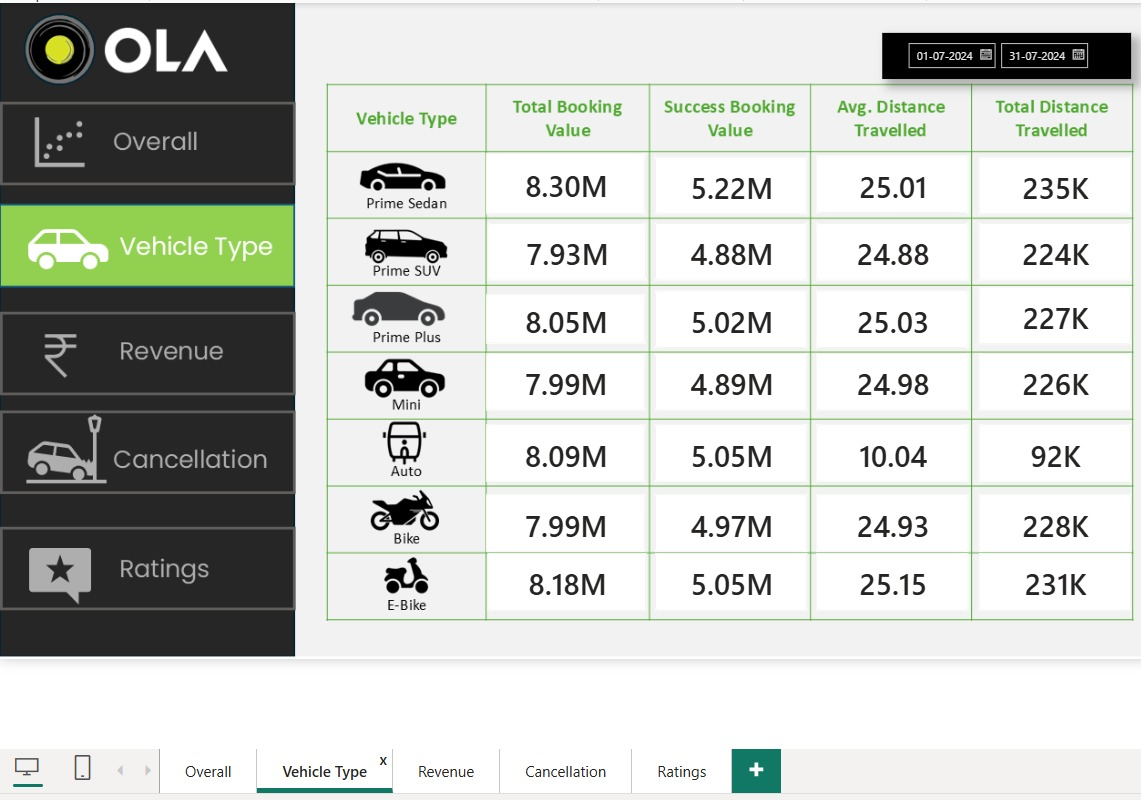

Layout of this report page (visuals, bound fields, positions):
{"tool":"powerbi","page":{"name":"Vehicle Type","canvas":[1280,720],"ordinal":1},"visuals":[{"type":"actionButton","box":[0,339,324.5,91.7],"z":0},{"type":"actionButton","box":[0,447.6,324.5,91.7],"z":1000},{"type":"actionButton","box":[0,575.5,324.5,91.7],"z":2000},{"type":"actionButton","box":[0,108.6,324.5,91.7],"z":3000},{"type":"cardVisual","fields":{"Data":["Sum(July.Booking_Value)"]},"box":[533.8,164.7,174.3,67.2],"z":4000},{"type":"cardVisual","fields":{"Data":["Sum(July.Booking_Value)"]},"box":[535.2,241.5,174.3,63.1],"z":5000},{"type":"cardVisual","fields":{"Data":["Sum(July.Booking_Value)"]},"box":[533.8,319.7,174.3,54.9],"z":6000},{"type":"cardVisual","fields":{"Data":["Sum(July.Booking_Value)"]},"box":[533.8,384.2,174.3,63.1],"z":7000},{"type":"cardVisual","fields":{"Data":["Sum(July.Booking_Value)"]},"box":[533.8,462.4,174.3,63.1],"z":8000},{"type":"cardVisual","fields":{"Data":["Sum(July.Booking_Value)"]},"box":[533.8,539.3,174.3,63.1],"z":9000},{"type":"cardVisual","fields":{"Data":["Sum(July.Booking_Value)"]},"box":[535.2,603.8,174.3,63.1],"z":10000},{"type":"cardVisual","fields":{"Data":["Sum(July.Booking_Value)"]},"box":[719,168.8,167.4,63.1],"z":11000},{"type":"cardVisual","fields":{"Data":["Sum(July.Booking_Value)"]},"box":[719,241.5,167.4,63.1],"z":12000},{"type":"cardVisual","fields":{"Data":["Sum(July.Booking_Value)"]},"box":[719,315.6,167.4,63.1],"z":13000},{"type":"cardVisual","fields":{"Data":["Sum(July.Booking_Value)"]},"box":[719,384.2,167.4,63.1],"z":14000},{"type":"cardVisual","fields":{"Data":["Sum(July.Booking_Value)"]},"box":[719,462.4,167.4,63.1],"z":15000},{"type":"cardVisual","fields":{"Data":["Sum(July.Booking_Value)"]},"box":[719,539.3,167.4,63.1],"z":16000},{"type":"cardVisual","fields":{"Data":["Sum(July.Booking_Value)"]},"box":[719,603.8,167.4,63.1],"z":17000},{"type":"cardVisual","fields":{"Data":["Avg(July.Ride_Distance)"]},"box":[896.1,167.4,167.4,63.1],"z":18000},{"type":"cardVisual","fields":{"Data":["Avg(July.Ride_Distance)"]},"box":[896.1,241.5,167.4,63.1],"z":19000},{"type":"cardVisual","fields":{"Data":["Avg(July.Ride_Distance)"]},"box":[896.1,315.6,167.4,63.1],"z":20000},{"type":"cardVisual","fields":{"Data":["Avg(July.Ride_Distance)"]},"box":[896.1,384.2,167.4,63.1],"z":21000},{"type":"cardVisual","fields":{"Data":["Avg(July.Ride_Distance)"]},"box":[896.1,462.4,167.4,63.1],"z":22000},{"type":"cardVisual","fields":{"Data":["Avg(July.Ride_Distance)"]},"box":[896.1,539.3,167.4,63.1],"z":23000},{"type":"cardVisual","fields":{"Data":["Avg(July.Ride_Distance)"]},"box":[896.1,603.8,167.4,63.1],"z":24000},{"type":"cardVisual","fields":{"Data":["Sum(July.Ride_Distance)"]},"box":[1074.4,168.8,167.4,63.1],"z":24001},{"type":"cardVisual","fields":{"Data":["Sum(July.Ride_Distance)"]},"box":[1074.4,241.5,167.4,63.1],"z":24002},{"type":"cardVisual","fields":{"Data":["Sum(July.Ride_Distance)"]},"box":[1074.4,311.5,167.4,63.1],"z":24003},{"type":"cardVisual","fields":{"Data":["Sum(July.Ride_Distance)"]},"box":[1074.4,384.2,167.4,63.1],"z":24004},{"type":"cardVisual","fields":{"Data":["Sum(July.Ride_Distance)"]},"box":[1074.4,462.4,167.4,63.1],"z":24005},{"type":"cardVisual","fields":{"Data":["Sum(July.Ride_Distance)"]},"box":[1074.4,539.3,167.4,63.1],"z":24006},{"type":"cardVisual","fields":{"Data":["Sum(July.Ride_Distance)"]},"box":[1074.4,603.8,167.4,63.1],"z":24007},{"type":"slicer","title":"Date","fields":{"Values":["July.Date"]},"box":[968.8,32.9,273.1,50.8],"z":24008}]}

Visuals, with their boxes on the page's 1280x720 design canvas (x1, y1, x2, y2). These are canvas units, not pixel positions in the 1141x800 screenshot, which may show the page scaled, cropped or inside an application window:
actionButton: Rect(0, 339, 324, 431)
actionButton: Rect(0, 448, 324, 539)
actionButton: Rect(0, 576, 324, 667)
actionButton: Rect(0, 109, 324, 200)
cardVisual - Sum(July.Booking_Value): Rect(534, 165, 708, 232)
cardVisual - Sum(July.Booking_Value): Rect(535, 242, 710, 305)
cardVisual - Sum(July.Booking_Value): Rect(534, 320, 708, 375)
cardVisual - Sum(July.Booking_Value): Rect(534, 384, 708, 447)
cardVisual - Sum(July.Booking_Value): Rect(534, 462, 708, 526)
cardVisual - Sum(July.Booking_Value): Rect(534, 539, 708, 602)
cardVisual - Sum(July.Booking_Value): Rect(535, 604, 710, 667)
cardVisual - Sum(July.Booking_Value): Rect(719, 169, 886, 232)
cardVisual - Sum(July.Booking_Value): Rect(719, 242, 886, 305)
cardVisual - Sum(July.Booking_Value): Rect(719, 316, 886, 379)
cardVisual - Sum(July.Booking_Value): Rect(719, 384, 886, 447)
cardVisual - Sum(July.Booking_Value): Rect(719, 462, 886, 526)
cardVisual - Sum(July.Booking_Value): Rect(719, 539, 886, 602)
cardVisual - Sum(July.Booking_Value): Rect(719, 604, 886, 667)
cardVisual - Avg(July.Ride_Distance): Rect(896, 167, 1064, 230)
cardVisual - Avg(July.Ride_Distance): Rect(896, 242, 1064, 305)
cardVisual - Avg(July.Ride_Distance): Rect(896, 316, 1064, 379)
cardVisual - Avg(July.Ride_Distance): Rect(896, 384, 1064, 447)
cardVisual - Avg(July.Ride_Distance): Rect(896, 462, 1064, 526)
cardVisual - Avg(July.Ride_Distance): Rect(896, 539, 1064, 602)
cardVisual - Avg(July.Ride_Distance): Rect(896, 604, 1064, 667)
cardVisual - Sum(July.Ride_Distance): Rect(1074, 169, 1242, 232)
cardVisual - Sum(July.Ride_Distance): Rect(1074, 242, 1242, 305)
cardVisual - Sum(July.Ride_Distance): Rect(1074, 312, 1242, 375)
cardVisual - Sum(July.Ride_Distance): Rect(1074, 384, 1242, 447)
cardVisual - Sum(July.Ride_Distance): Rect(1074, 462, 1242, 526)
cardVisual - Sum(July.Ride_Distance): Rect(1074, 539, 1242, 602)
cardVisual - Sum(July.Ride_Distance): Rect(1074, 604, 1242, 667)
"Date" slicer: Rect(969, 33, 1242, 84)
